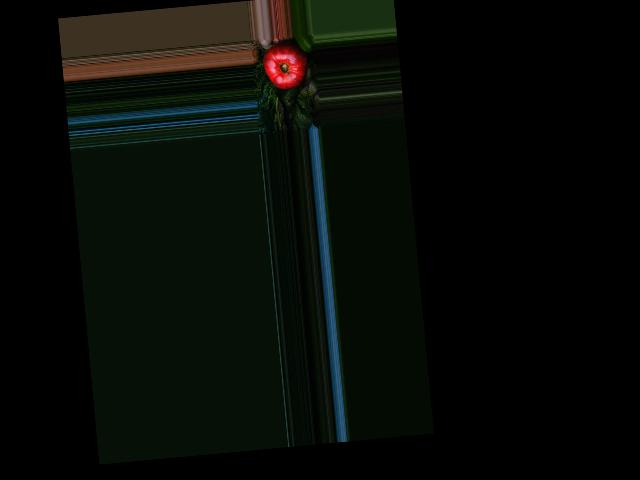tomato: (261, 38, 311, 90)
